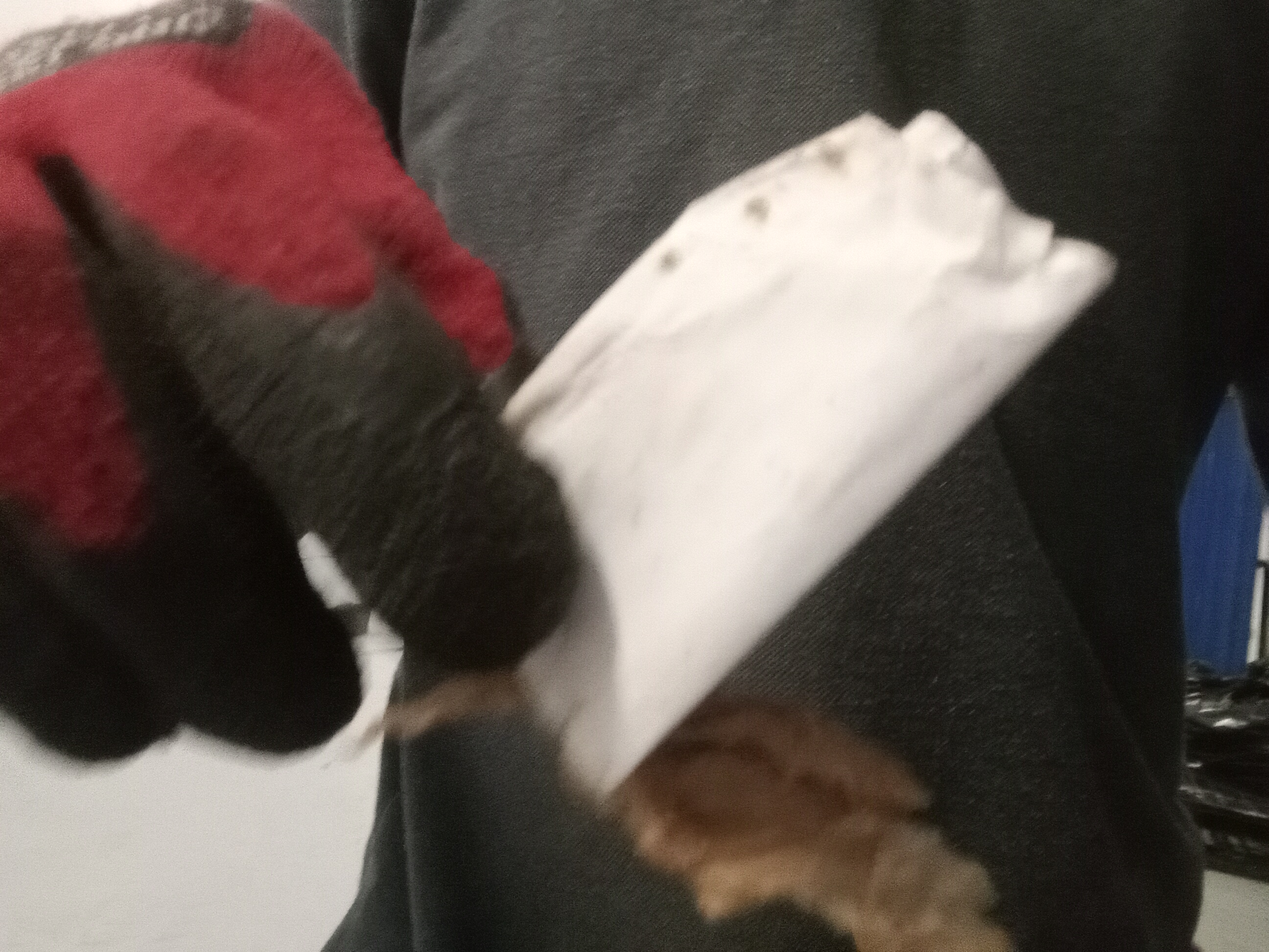Papel: (498, 112, 1115, 797)
